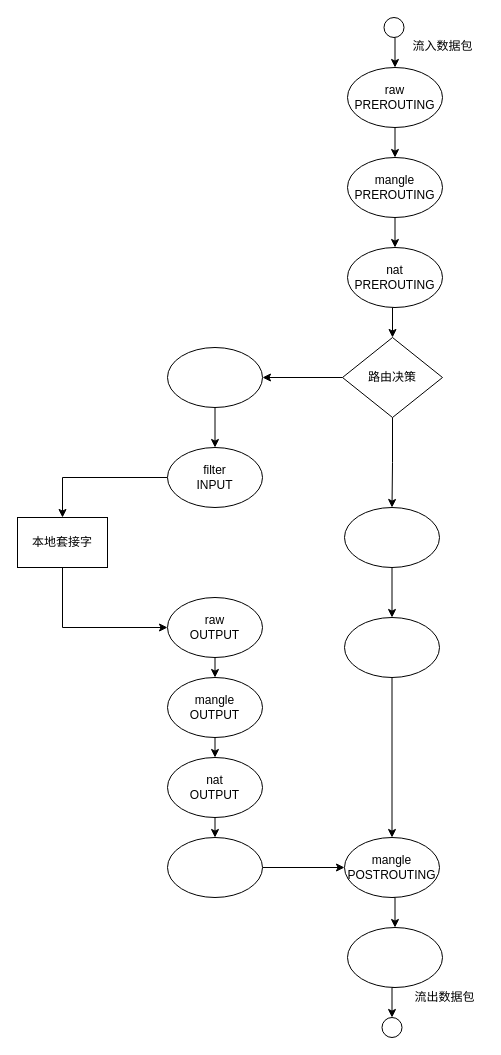
Some shapes in this 501 by 1055 pixel diagram are drawn without their labels. Here are the shapes that lost their labels. From the top down, the centre of each, then its label:
point (214, 377): mangle INPUT
point (392, 537): mangle FORWARD
point (392, 647): filter FORWARD
point (214, 867): filter OUTPUT
point (394, 957): nat POSTROUTING
